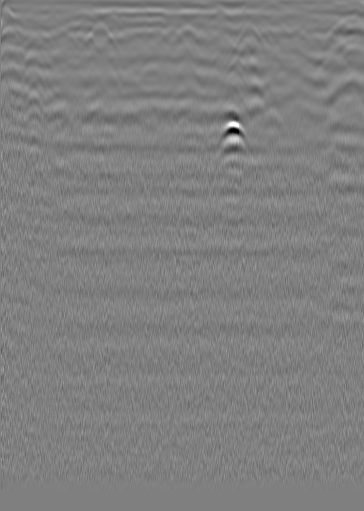가스: (212, 121, 254, 156)
상수: (321, 18, 348, 47)
오수: (34, 27, 54, 47)
우수: (175, 25, 195, 45)
